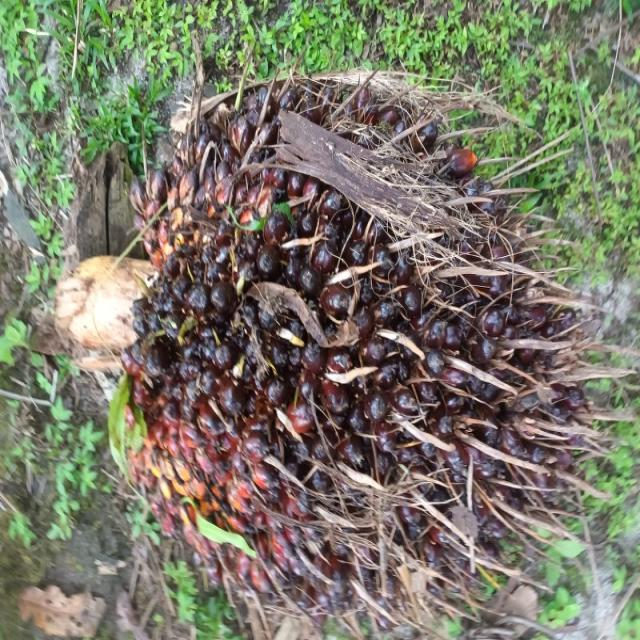fraksi 00: (93, 46, 604, 606)
